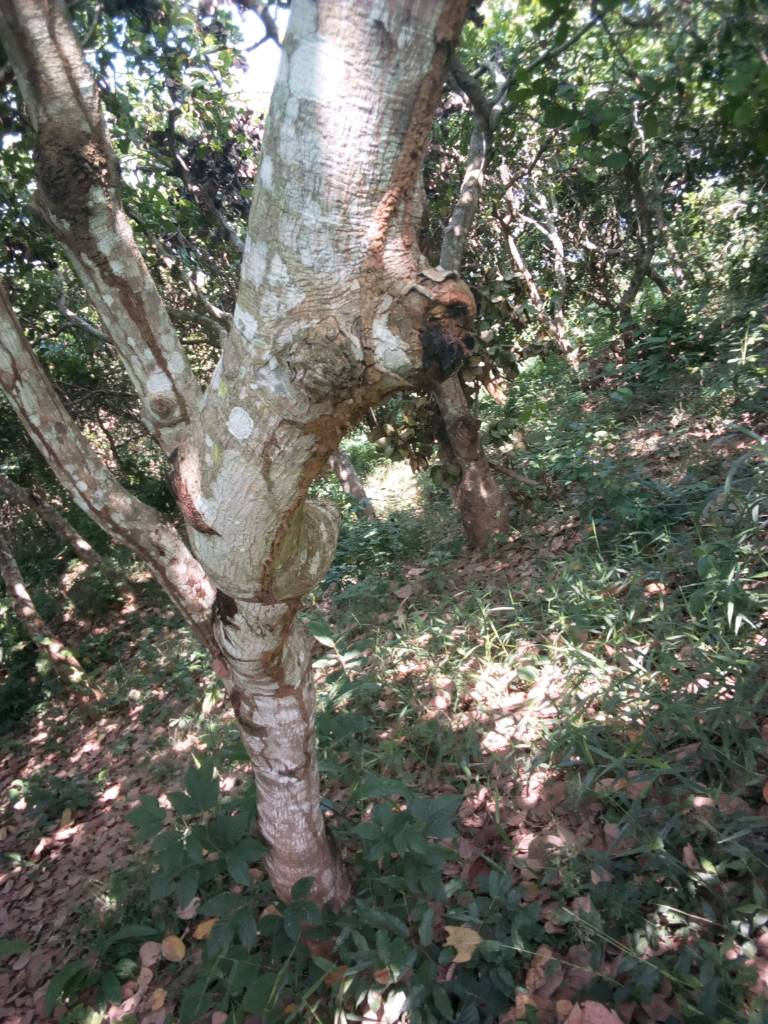Termites: (368, 64, 440, 353), (269, 385, 372, 571), (263, 611, 330, 813)
